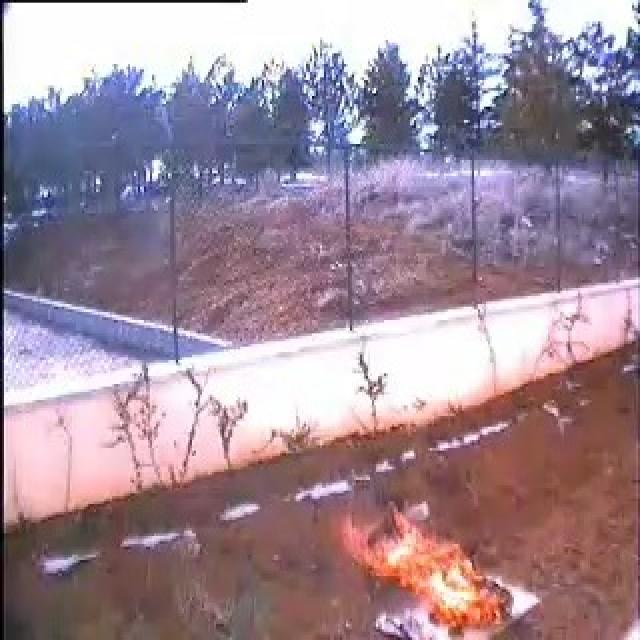fire: (341, 522, 516, 627)
